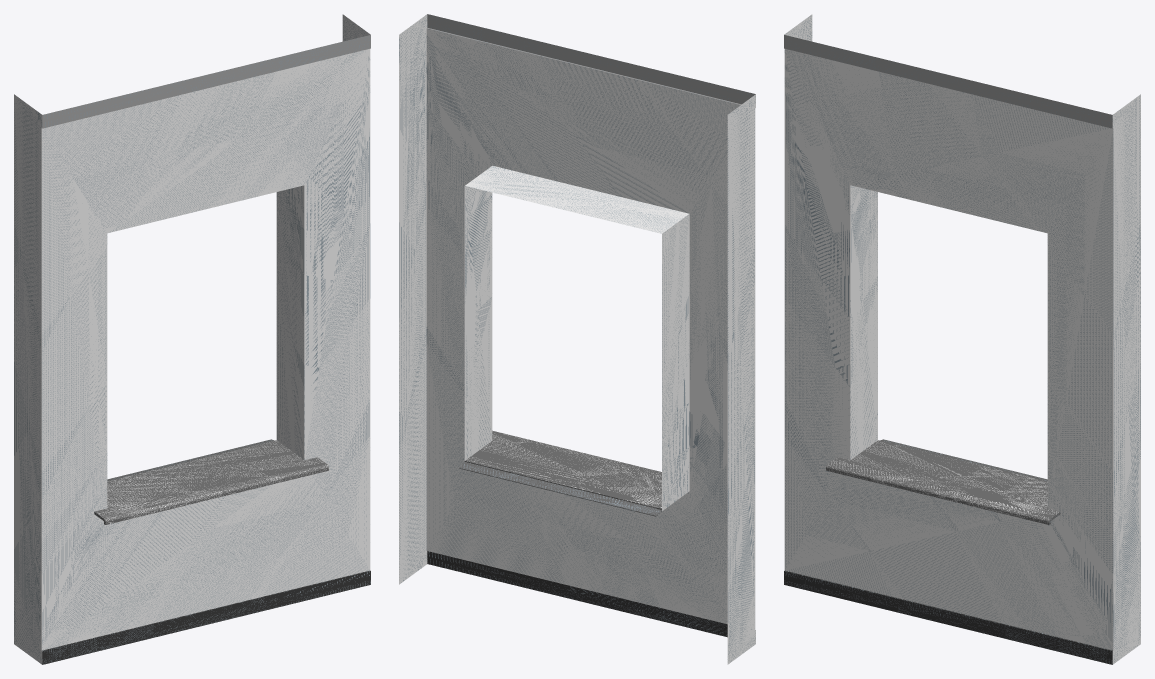
File: WindowBlock_os_plinth_[250x400]_150x200x[100].dae
3 views of the same model, side by side, from view 1: azimuth 30°, elevation 25°; view 2: azimuth 150°, elevation 25°; view 3: azimuth 330°, elevation 25° (orthographic).
Parts seen in each view (by area): view 1: group_2 (×4), group_1; view 2: group_2 (×4), group_1 (×2); view 3: group_2 (×4), group_1.
Boxes of the visible parts, left/top/right/bottom form: group_2 (×4): left=14, top=14, right=370, bottom=664; group_1: left=94, top=440, right=328, bottom=524; group_2 (×4): left=399, top=14, right=755, bottom=664; group_1 (×2): left=459, top=430, right=661, bottom=516; group_2 (×4): left=784, top=14, right=1140, bottom=664; group_1: left=826, top=440, right=1060, bottom=524.
Size of the model in its own units: 98.43 by 23.03 by 157.
